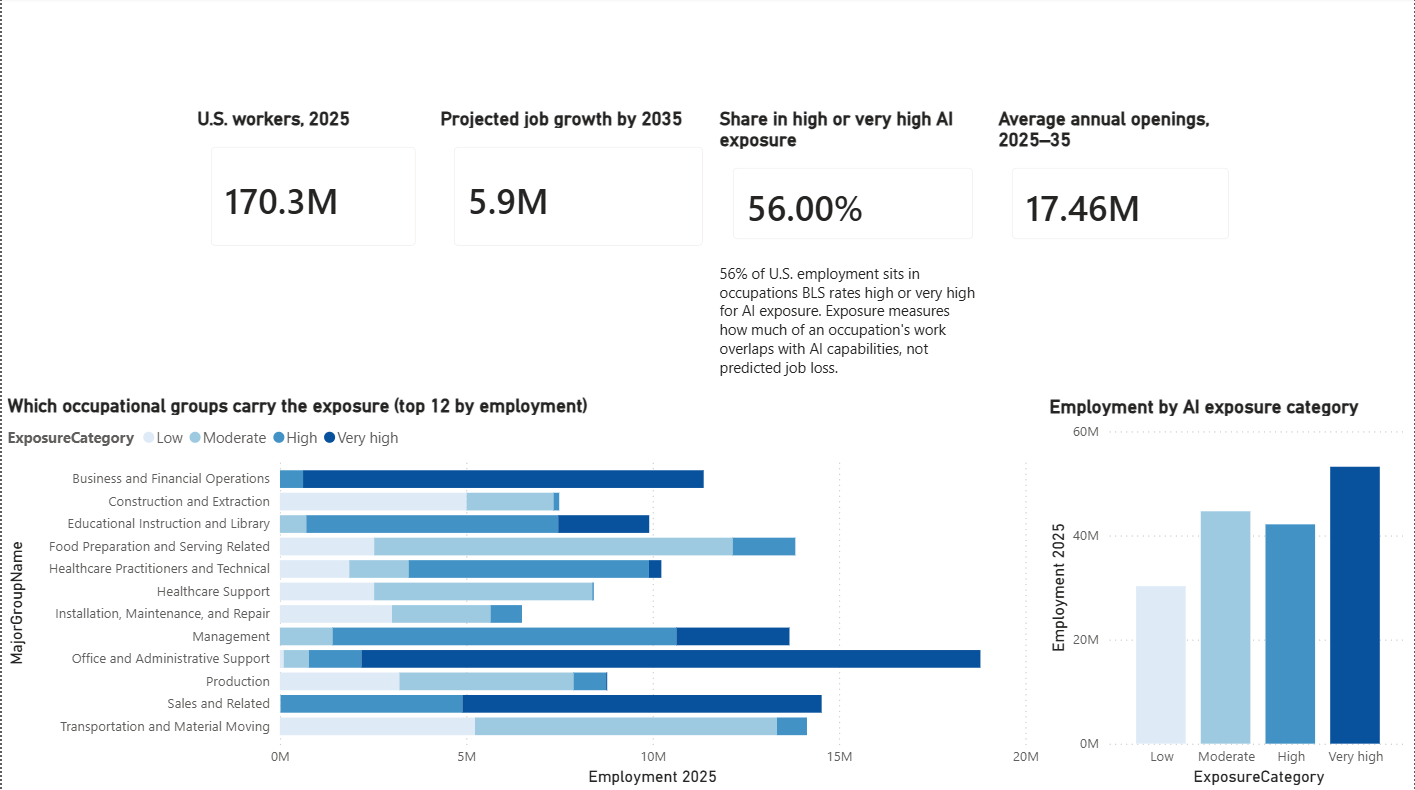

This screenshot's page, from the dashboard's own definition file:
{"tool":"powerbi","page":{"name":"Overview","canvas":[1280,720],"ordinal":0},"visuals":[{"type":"cardVisual","title":"U.S. workers, 2025","fields":{"Data":["Projections.Employment 2025"]},"box":[172.6,99.8,220.1,143.5],"z":0},{"type":"cardVisual","title":"Projected job growth by 2035","fields":{"Data":["Projections.Projected Change"]},"box":[392.8,99.8,260.5,143.5],"z":1000},{"type":"cardVisual","title":"Share in high or very high AI exposure","fields":{"Data":["Projections.Share in High Exposure"]},"box":[645.6,99.8,252.8,137.1],"z":2000},{"type":"cardVisual","title":"Average annual openings, 2025–35","fields":{"Data":["Sum(Projections.Total Annual Openings)"]},"box":[898.4,99.8,231.4,137.1],"z":3000},{"type":"clusteredColumnChart","title":"Employment by AI exposure category","fields":{"Category":["Projections.ExposureCategory"],"Y":["Projections.Employment 2025"]},"box":[945.1,361,334.9,359.2],"z":4000},{"type":"barChart","title":"Which occupational groups carry the exposure (top 12 by employment)","fields":{"Category":["MajorGroups.MajorGroupName"],"Series":["Projections.ExposureCategory"],"Y":["Projections.Employment 2025"]},"box":[0,360.1,945.1,360.1],"z":5000},{"type":"textbox","box":[645.6,237,247.2,123.1],"z":6000}]}

Visuals, with their boxes in screenshot pixels (x1, y1, x2, y2), scaled from the page's 1280x720 canvas onto the 1415x790 screenshot:
"U.S. workers, 2025" cardVisual: [left=191, top=110, right=434, bottom=267]
"Projected job growth by 2035" cardVisual: [left=434, top=110, right=722, bottom=267]
"Share in high or very high AI exposure" cardVisual: [left=714, top=110, right=993, bottom=260]
"Average annual openings, 2025–35" cardVisual: [left=993, top=110, right=1249, bottom=260]
"Employment by AI exposure category" clusteredColumnChart: [left=1045, top=396, right=1414, bottom=789]
"Which occupational groups carry the exposure (top 12 by employment)" barChart: [left=0, top=395, right=1045, bottom=789]
textbox: [left=714, top=260, right=987, bottom=395]
